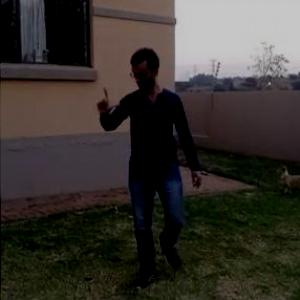land_hand: (91, 83, 123, 116)
